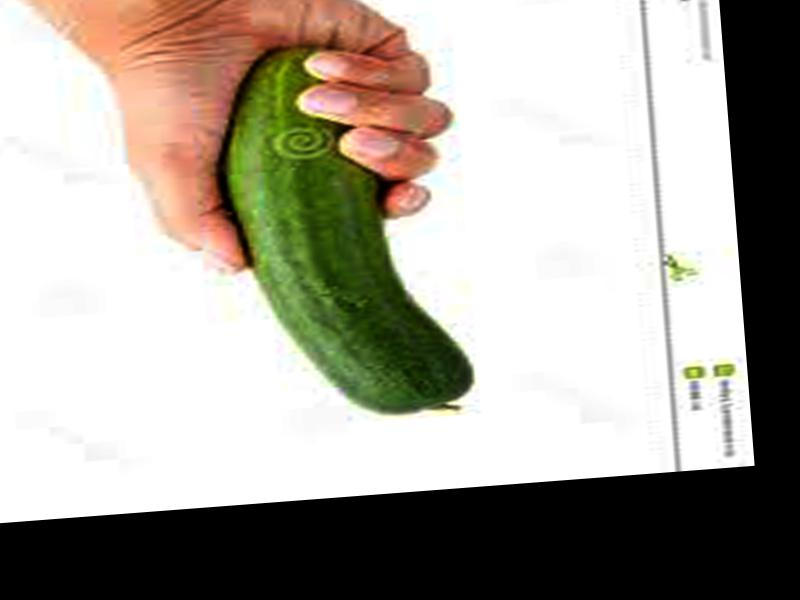Cucumber: (220, 36, 476, 427)
